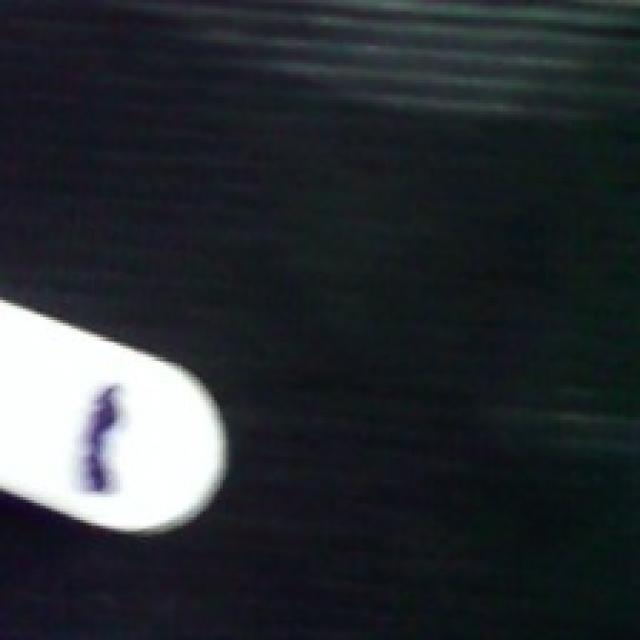defected: (0, 291, 234, 540)
